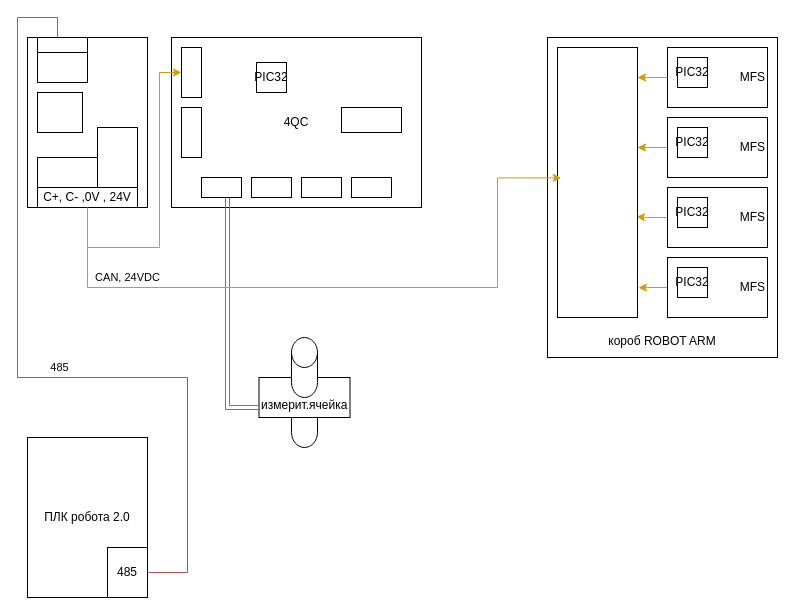
Image size: 795x615. Some labels were removed from this diagram. Here are the shapes that lost their labels. From the top down, the centre of each, then its label:
point 62,44: A, B
point 62,67: MAX485
point 59,112: STM32
point 371,119: PIC24
point 67,172: TJA1050
point 117,157: 30-12 ->5V
point 597,182: 7WAY разветвитель CAN
